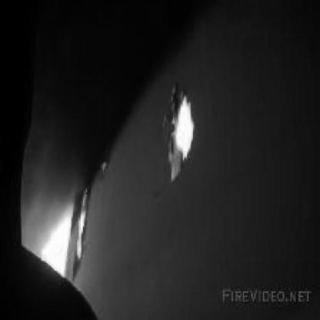Fire: (44, 191, 88, 271)
